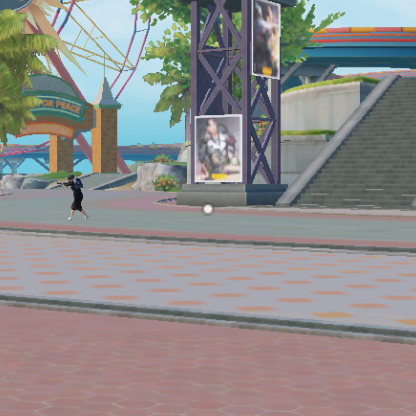ren: (203, 118, 232, 169), (65, 174, 91, 222)
tou: (207, 119, 218, 138), (66, 175, 75, 182)
